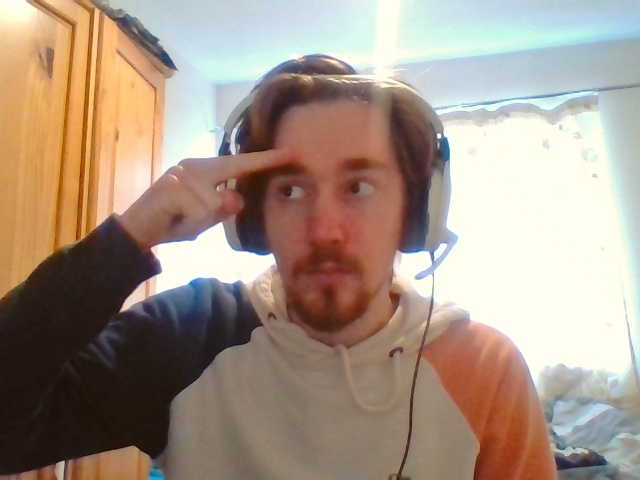name: (160, 148, 296, 238)
